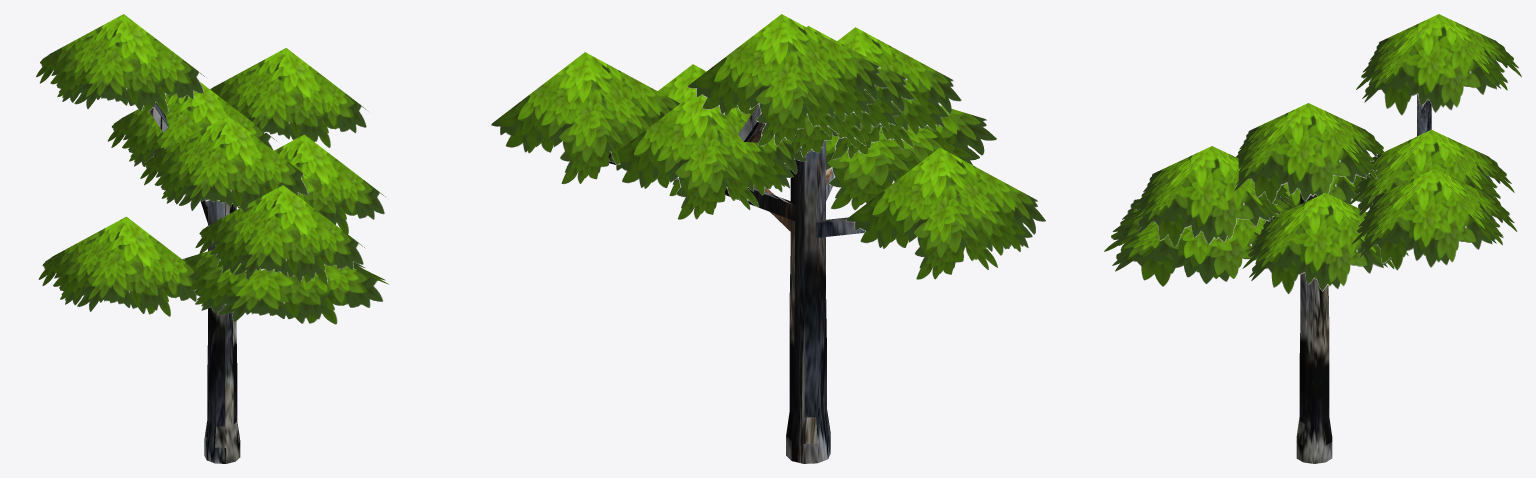
Rendered from Tree.fbx.
3 renders of one model, left to right at view 1: azimuth 30°, elevation 25°; view 2: azimuth 150°, elevation 25°; view 3: azimuth 270°, elevation 25°, orthographic. The views are drawn at different scales.
Visible parts, largest first — view 1: pCube4, pCube1, pCube3, pCube7, pCube6, pCube2, pCylinder1, pCube8, pCube5; view 2: pCube4, pCube3, pCylinder1, pCube8, pCube6, pCube2, pCube1, pCube7, pCube5; view 3: pCube4, pCube6, pCube7, pCube1, pCube5, pCube2, pCylinder1, pCube8, pCube3.
Boxes of the visible parts, left/top/right/bottom form: pCube4: left=36, top=14, right=206, bottom=113; pCube1: left=195, top=185, right=365, bottom=284; pCube3: left=38, top=216, right=198, bottom=316; pCube7: left=140, top=116, right=308, bottom=212; pCube6: left=210, top=48, right=368, bottom=147; pCube2: left=182, top=250, right=388, bottom=324; pCylinder1: left=149, top=102, right=240, bottom=463; pCube8: left=107, top=82, right=276, bottom=166; pCube5: left=238, top=134, right=385, bottom=233; pCube4: left=687, top=14, right=887, bottom=146; pCube3: left=845, top=147, right=1045, bottom=279; pCylinder1: left=608, top=104, right=864, bottom=463; pCube8: left=609, top=91, right=807, bottom=219; pCube6: left=491, top=52, right=679, bottom=184; pCube2: left=784, top=105, right=996, bottom=210; pCube1: left=831, top=27, right=961, bottom=159; pCube7: left=736, top=26, right=914, bottom=157; pCube5: left=658, top=64, right=706, bottom=196; pCube4: left=1356, top=14, right=1521, bottom=115; pCube6: left=1351, top=169, right=1517, bottom=270; pCube7: left=1234, top=103, right=1383, bottom=204; pCube1: left=1129, top=146, right=1294, bottom=247; pCube5: left=1242, top=193, right=1408, bottom=293; pCube2: left=1104, top=198, right=1292, bottom=286; pCylinder1: left=1296, top=94, right=1431, bottom=463; pCube8: left=1350, top=129, right=1514, bottom=216; pCube3: left=1276, top=175, right=1363, bottom=206.
Bounding box in the file's own units: 10.42 × 11.24 × 10.07.
